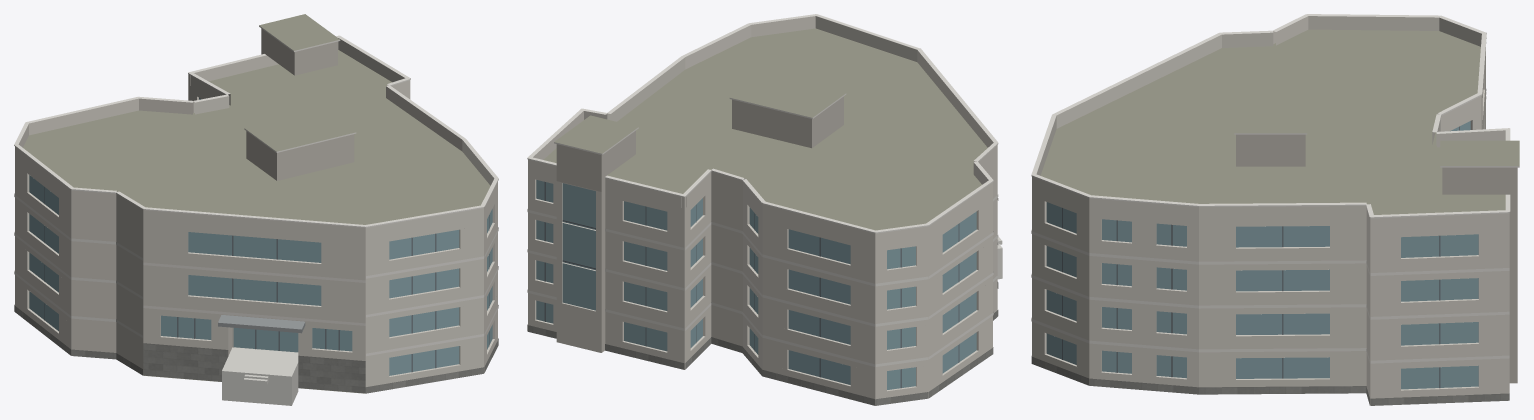
3 renders of one model, left to right at view 1: azimuth 30°, elevation 25°; view 2: azimuth 150°, elevation 25°; view 3: azimuth 270°, elevation 25°, orthographic. The views are drawn at different scales.
Visible parts, largest first — view 1: b920__wall, b920__roof, b920__glass, b920__parapet, b920__trim, b920__base, b920__wall2, b920__entranceStair, b920__canopy, b920__frame; view 2: b920__wall, b920__roof, b920__glass, b920__parapet, b920__trim, b920__wall2, b920__base, b920__frame; view 3: b920__roof, b920__wall, b920__glass, b920__parapet, b920__trim, b920__wall2, b920__base, b920__frame.
Boxes of the visible parts, box(x1,y1,x2,y2) form: b920__wall: box(15, 85, 497, 386); b920__roof: box(23, 14, 490, 393); b920__glass: box(29, 97, 492, 375); b920__parapet: box(15, 38, 497, 238); b920__trim: box(14, 25, 498, 356); b920__base: box(14, 304, 498, 393); b920__wall2: box(246, 28, 354, 180); b920__entranceStair: box(222, 347, 298, 405); b920__canopy: box(218, 315, 305, 333); b920__frame: box(44, 187, 489, 372); b920__wall: box(528, 155, 997, 405); b920__roof: box(544, 28, 987, 230); b920__glass: box(536, 180, 976, 389); b920__parapet: box(528, 16, 997, 244); b920__trim: box(527, 14, 998, 366); b920__wall2: box(556, 96, 843, 352); b920__base: box(527, 282, 998, 405); b920__frame: box(544, 182, 959, 388); b920__roof: box(1040, 29, 1519, 394); b920__wall: box(1032, 49, 1509, 404); b920__glass: box(1046, 121, 1478, 389); b920__parapet: box(1032, 16, 1509, 230); b920__trim: box(1031, 14, 1519, 363); b920__wall2: box(1236, 134, 1517, 383); b920__base: box(1031, 356, 1509, 405); b920__frame: box(1062, 126, 1459, 388).
Size of the model in its own units: 35.82 by 18.21 by 36.36.
Materials: 11 (1 with a texture image).
